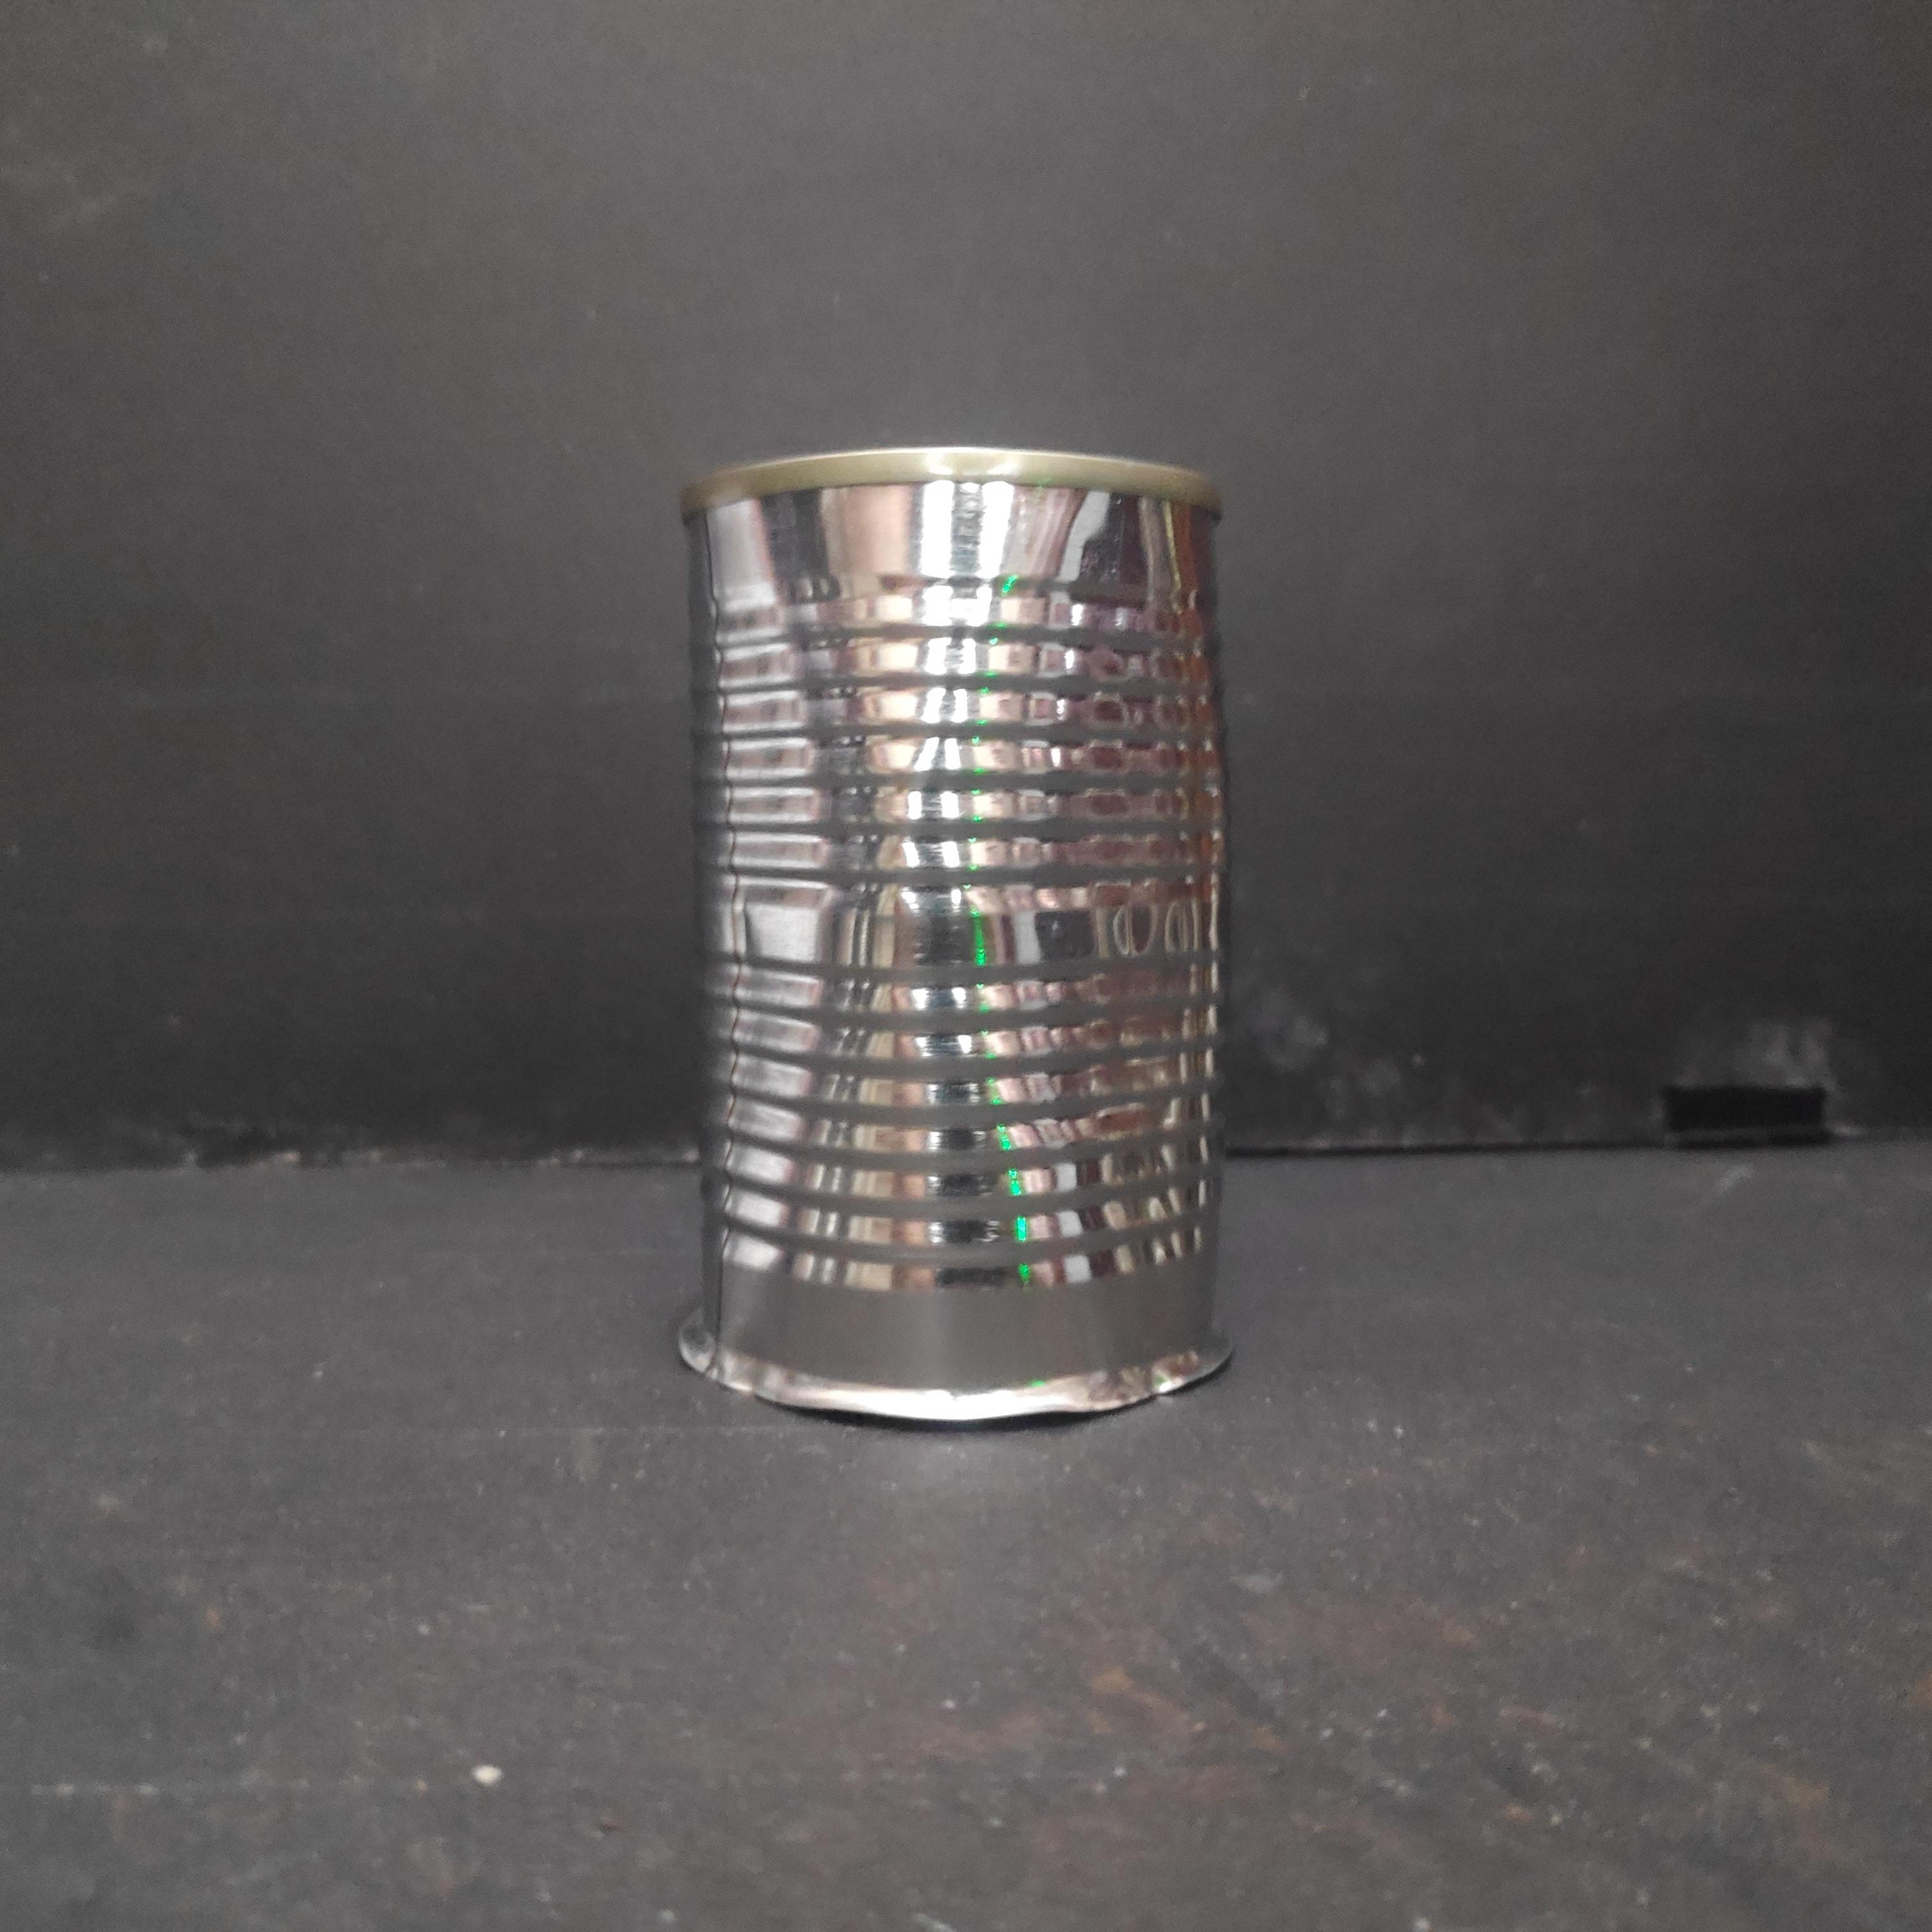Minor Defect: (669, 442, 1244, 1440)
